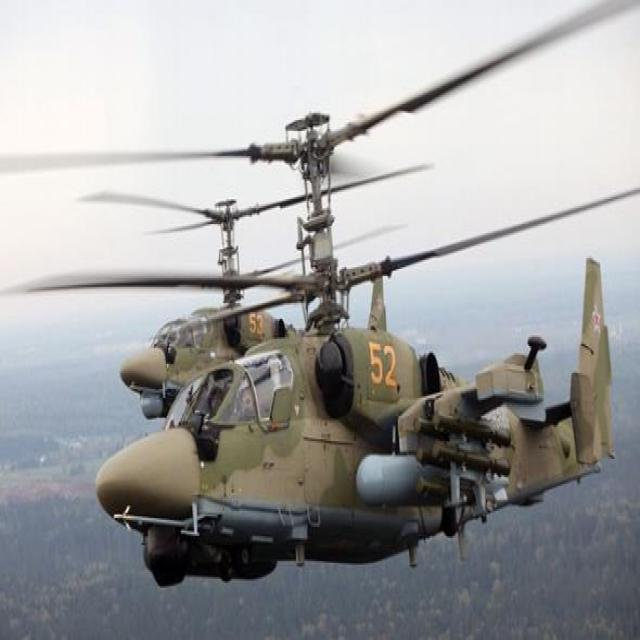MIL_HELO: (0, 8, 640, 596), (85, 154, 454, 415)
